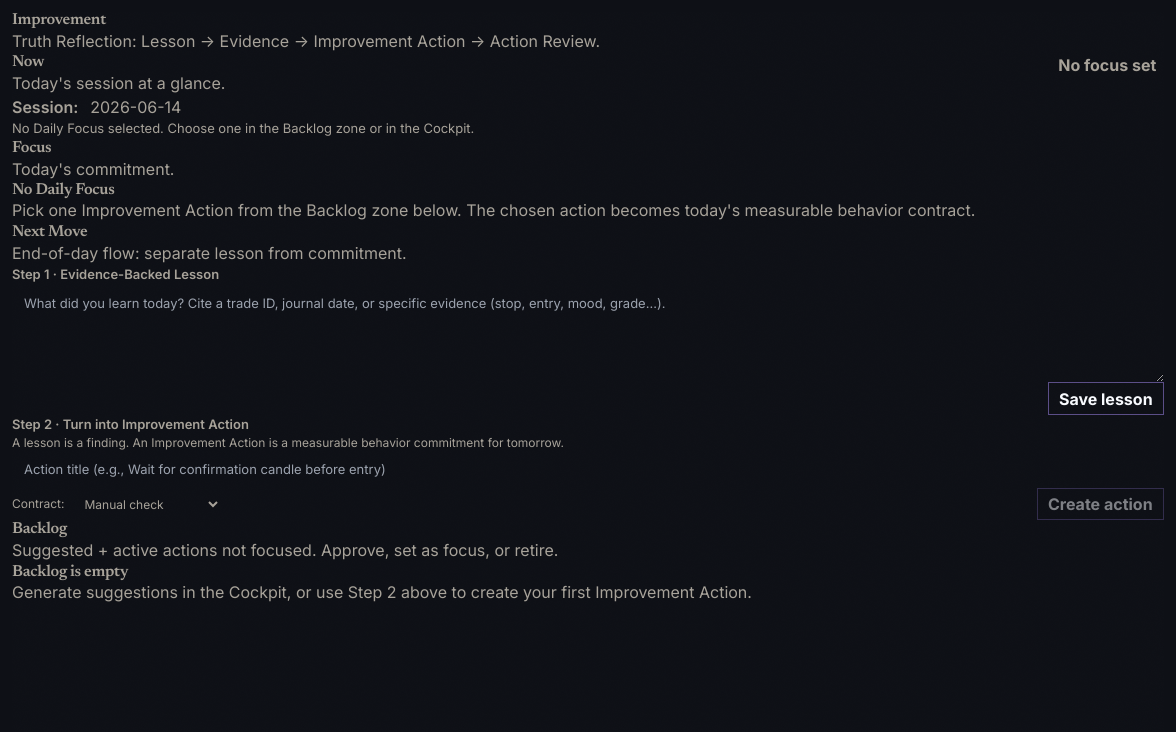
Test: ImprovementV3Page › Next Move shows "Evidence cited" when lesson references a trade
Replace the text in the text box named "Evidence-backed lesson" with "Trade #5 — moved stop wrong". click: (588, 334)
box: [12,284,1164,382]
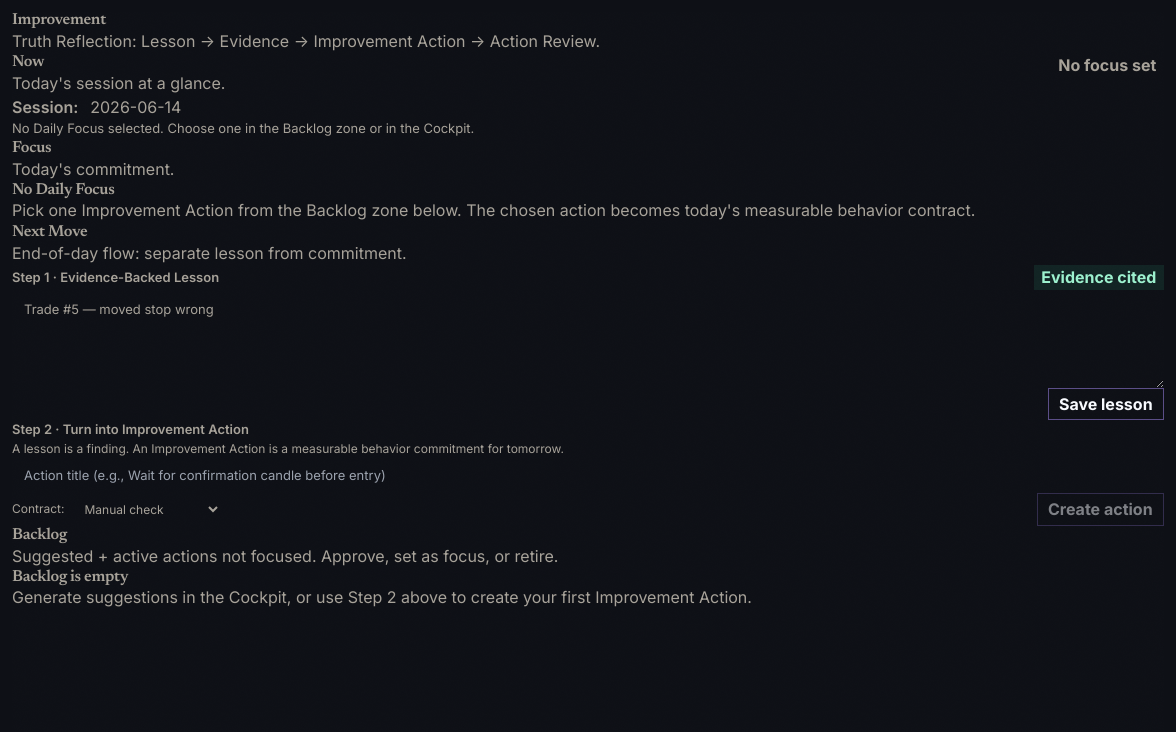
Now the text "Evidence cited" is shown, box [1041,270,1156,286]
